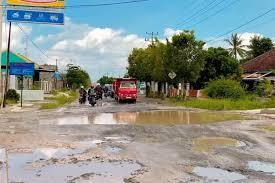Pothole: (0, 133, 147, 183), (186, 126, 275, 183), (39, 110, 273, 130), (86, 94, 129, 108)
